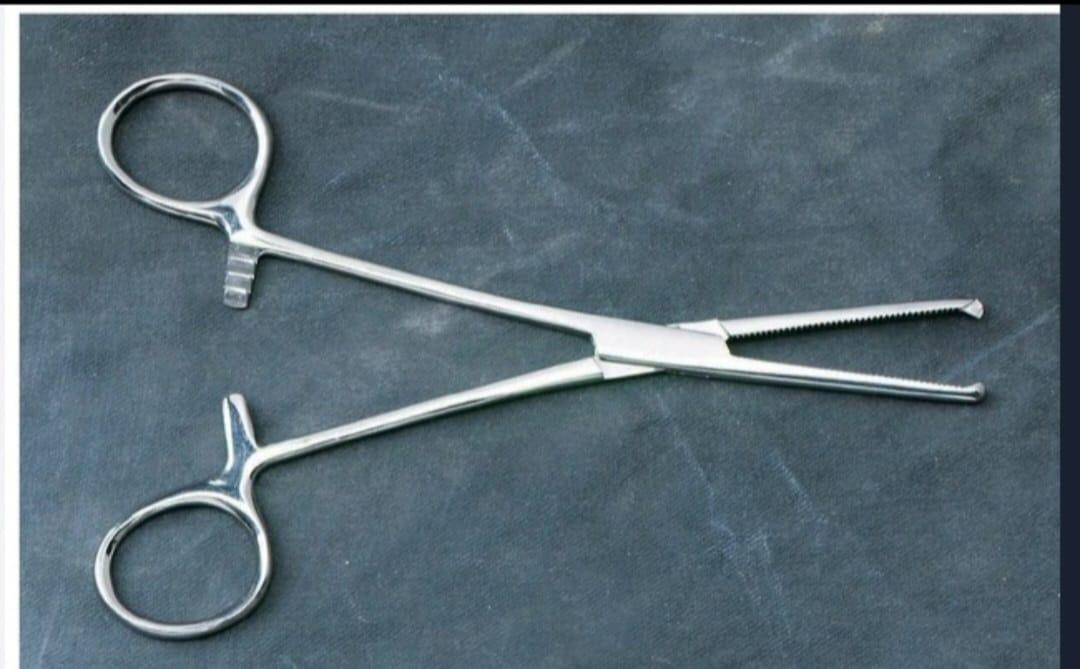Kocher Forceps: (91, 69, 995, 650)
